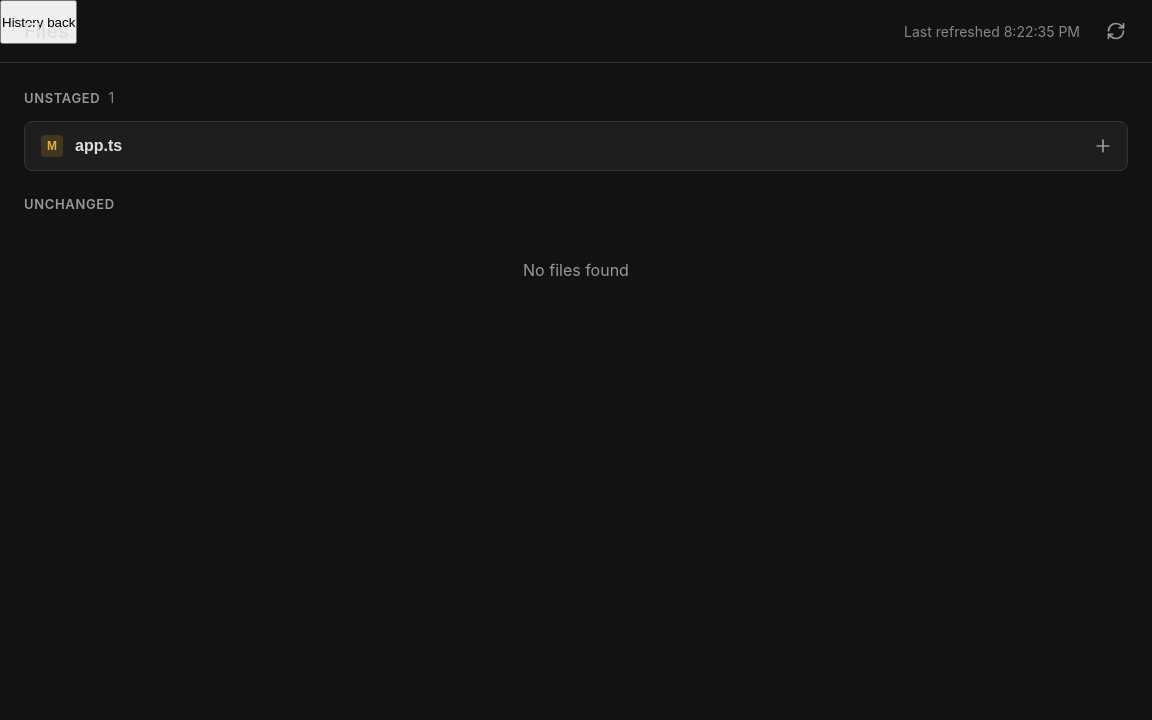
Test: FilesPage › with unsaved edits › offers Save rather than staging the file as saved
Click the button with class "changes-file-entry" at (99,145), box [25,122,1079,170]
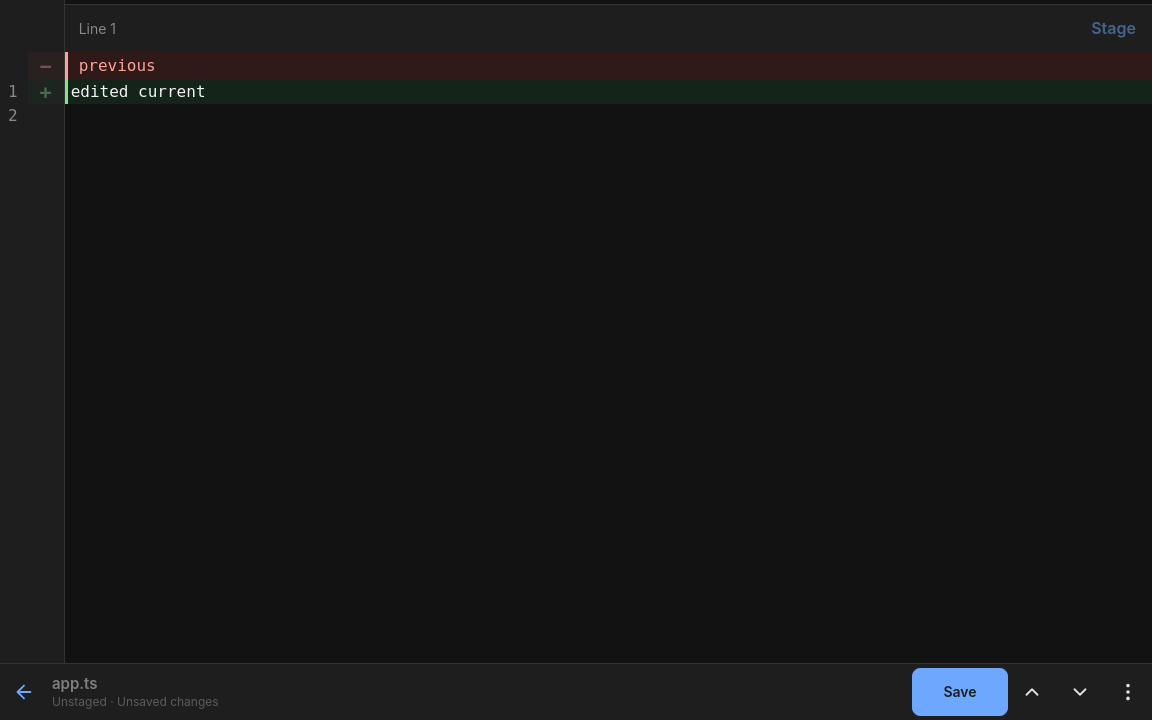
Expected: the field with class "cm-content" is shown, [65,4,1151,104]
Expected: the text "Unsaved changes" is shown, [107,694,219,709]
